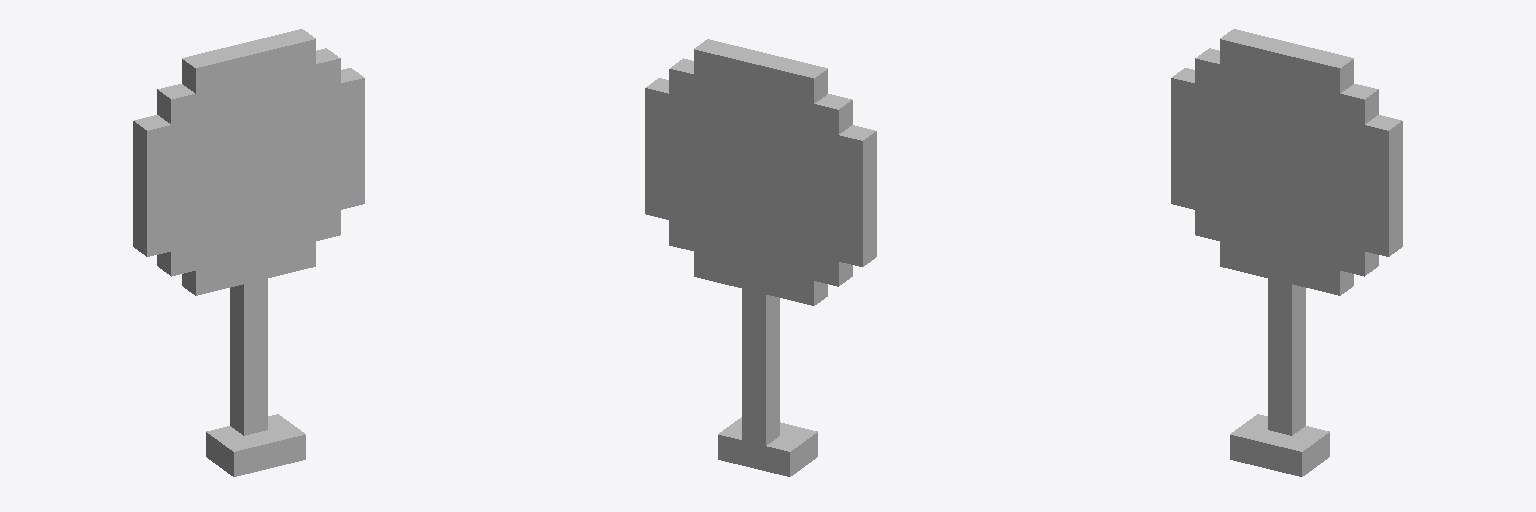
The model's file is StopSign.obj.
3 renders of one model, left to right at view 1: azimuth 30°, elevation 25°; view 2: azimuth 150°, elevation 25°; view 3: azimuth 330°, elevation 25°, orthographic.
Visible parts, largest first — view 1: object 1; view 2: object 1; view 3: object 1.
Part boxes in pixels (x1,y1,x2,y2): object 1: (133, 29, 364, 476); object 1: (645, 39, 876, 476); object 1: (1171, 29, 1402, 476).
Size of the model in its own units: 0.9 by 1.6 by 0.2.